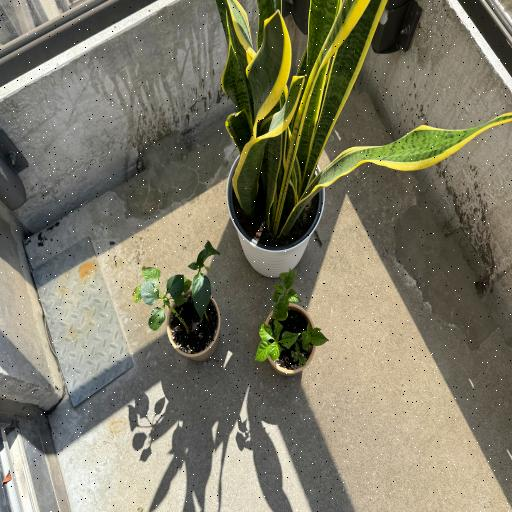Plant Pot: (226, 142, 325, 276), (257, 300, 314, 376), (164, 290, 218, 362)
